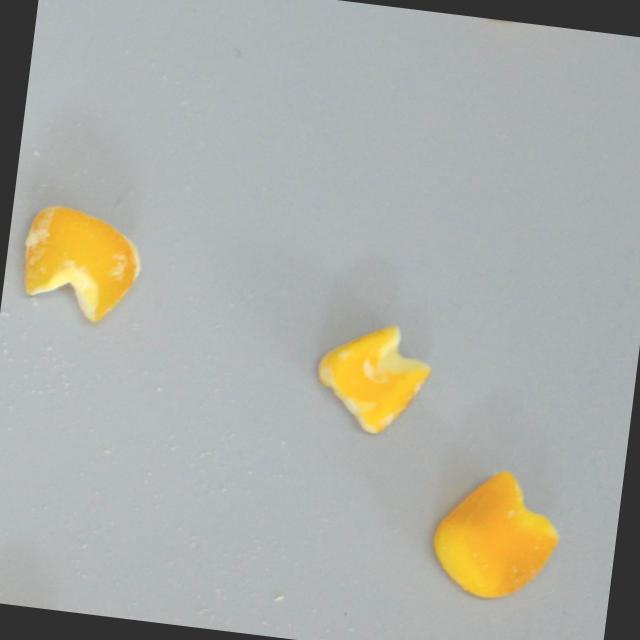no_canjicado: (424, 459, 569, 606)
pelicula: (309, 313, 437, 443), (17, 201, 146, 327)
